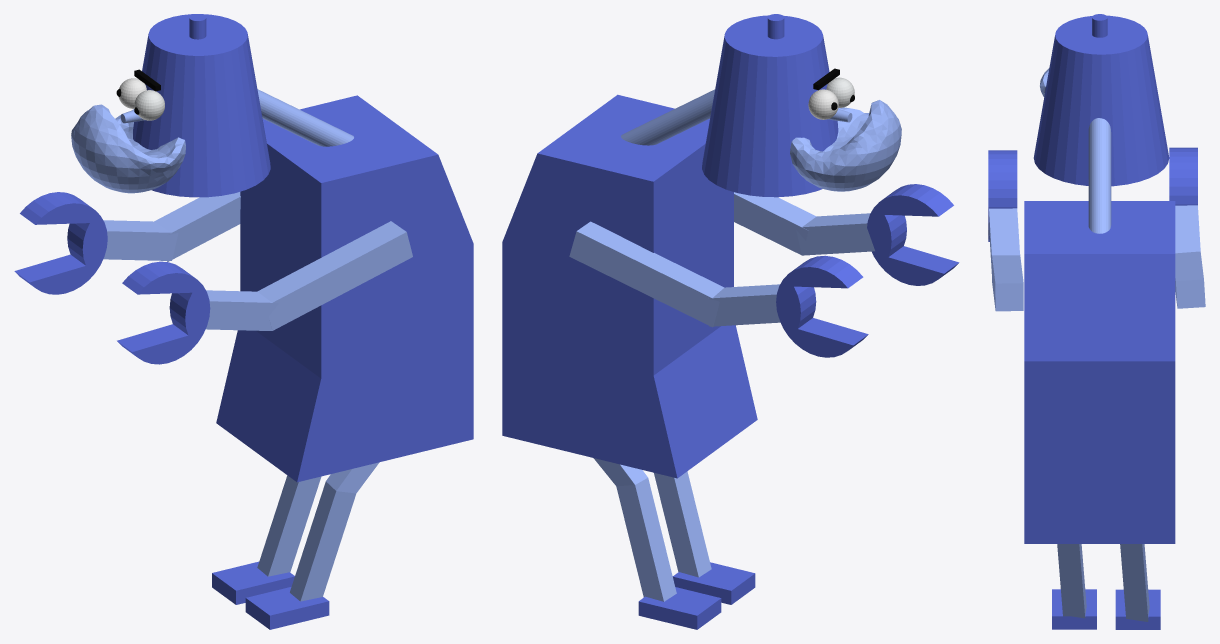
The model's file is Robo 3 hiro.glb.
3 renders of one model, left to right at view 1: azimuth 30°, elevation 25°; view 2: azimuth 150°, elevation 25°; view 3: azimuth 270°, elevation 25°, orthographic. The views are drawn at different scales.
Visible parts, largest first — view 1: Cube, Cylinder.001, Cube.003, Sphere.002, Cylinder.004, Cylinder.005, Cube.002, Cube.001, Cube.004, Cube.006, Cube.005, Cube.007 (+3 smaller); view 2: Cube, Cylinder.001, Cube.004, Sphere.002, Cylinder.005, Cylinder.004, Cube.001, Cube.002, Cube.003, Cube.005, Cube.006, Cube.008 (+3 smaller); view 3: Cube, Cylinder.001, Cylinder, Cube.001, Cube.002, Cylinder.004, Cube.003, Cylinder.005, Cube.004, Cube.005, Cube.007, Cube.006 (+2 smaller).
Part boxes in pixels (<box>): Cube: <box>216,95,473,482</box>; Cylinder.001: <box>133,14,270,197</box>; Cube.003: <box>257,221,412,330</box>; Sphere.002: <box>71,104,185,193</box>; Cylinder.004: <box>117,261,210,364</box>; Cylinder.005: <box>14,192,107,294</box>; Cube.002: <box>290,462,379,601</box>; Cube.001: <box>257,475,321,576</box>; Cube.004: <box>154,192,240,261</box>; Cube.006: <box>103,220,178,260</box>; Cube.005: <box>206,290,278,330</box>; Cube.007: <box>245,587,329,629</box>; Cube: <box>502,94,757,478</box>; Cylinder.001: <box>702,15,838,197</box>; Cube.004: <box>569,221,724,327</box>; Sphere.002: <box>790,100,901,191</box>; Cylinder.005: <box>776,255,868,357</box>; Cylinder.004: <box>867,184,959,285</box>; Cube.001: <box>593,458,676,601</box>; Cube.002: <box>654,471,711,577</box>; Cube.003: <box>734,192,816,254</box>; Cube.005: <box>796,213,874,255</box>; Cube.006: <box>707,284,780,326</box>; Cube.008: <box>638,587,721,629</box>; Cube: <box>1024,201,1175,543</box>; Cylinder.001: <box>1033,15,1169,186</box>; Cylinder: <box>1088,118,1111,233</box>; Cube.001: <box>1120,544,1149,621</box>; Cube.002: <box>1057,544,1086,618</box>; Cylinder.004: <box>988,150,1017,241</box>; Cube.003: <box>992,254,1023,311</box>; Cylinder.005: <box>1169,147,1197,205</box>; Cube.004: <box>1175,251,1205,308</box>; Cube.005: <box>989,208,1019,273</box>; Cube.007: <box>1052,589,1096,629</box>; Cube.006: <box>1175,205,1200,253</box>.
Size of the model in its own units: 5.23 by 8.25 by 2.88.
